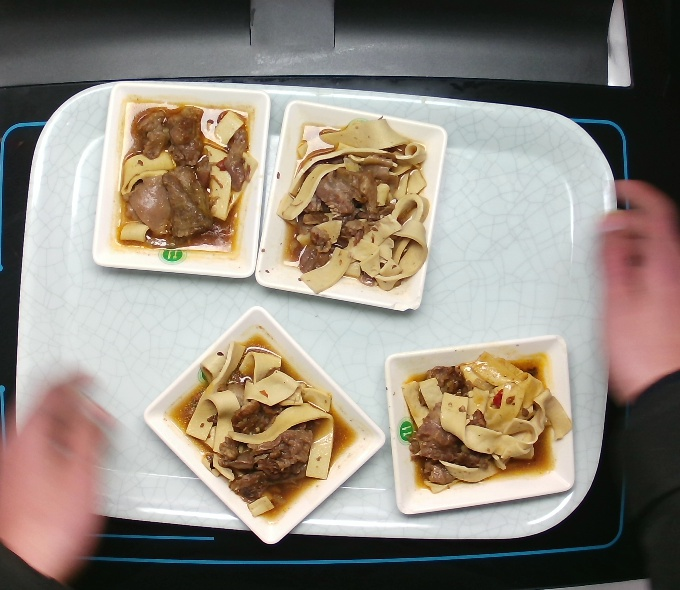wcq-QianZhangNiuNan: (170, 327, 359, 525), (281, 112, 433, 296), (111, 91, 262, 253), (401, 353, 573, 493)
